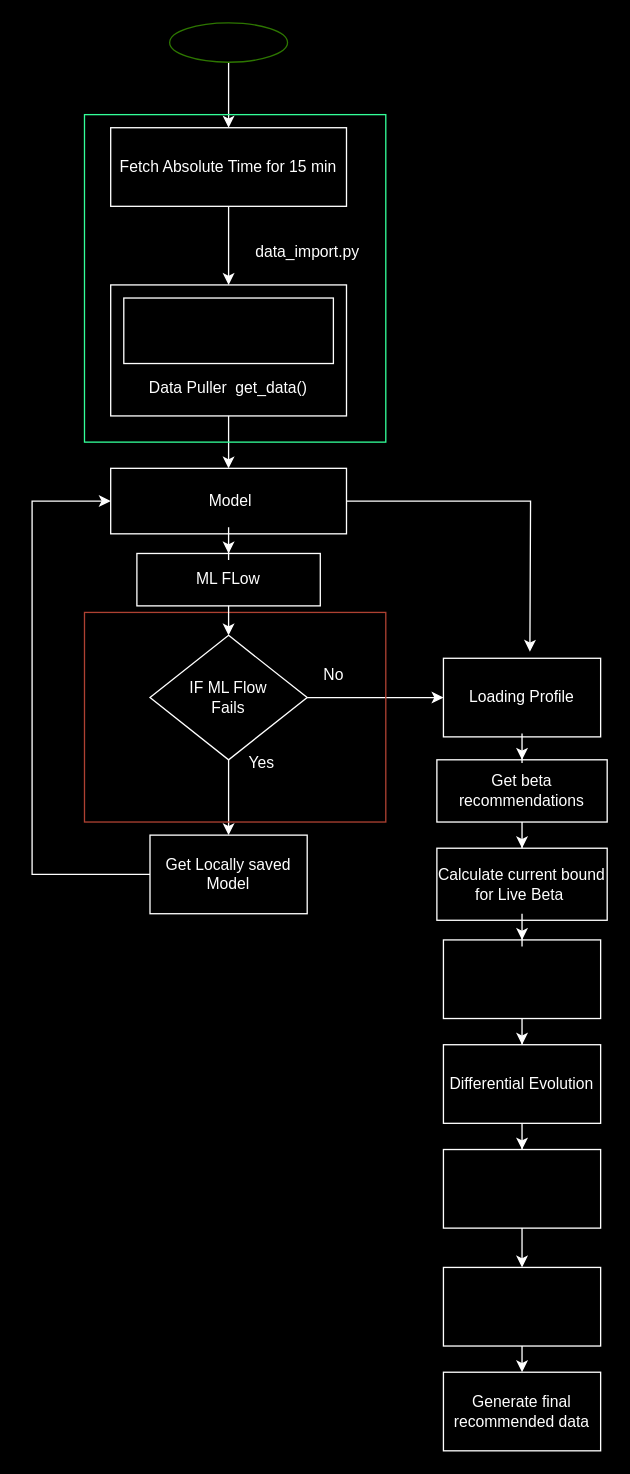
The diagram is 630 pixels wide and 1474 high, and some of its shapes have lost their labels. The shapes that lost their labels are listed below. From the top down, each one's box as (x1, y1, x2, y2) in pixels, then its label:
(168, 22, 288, 62): Start
(122, 297, 333, 364): Live data pulled for 15 min
(442, 939, 601, 1019): Calculate bounds for live data controllable and non controllable parameters
(442, 1148, 601, 1228): Calculate recommendations for live data
(442, 1266, 601, 1346): Recommending upper and lower limit
